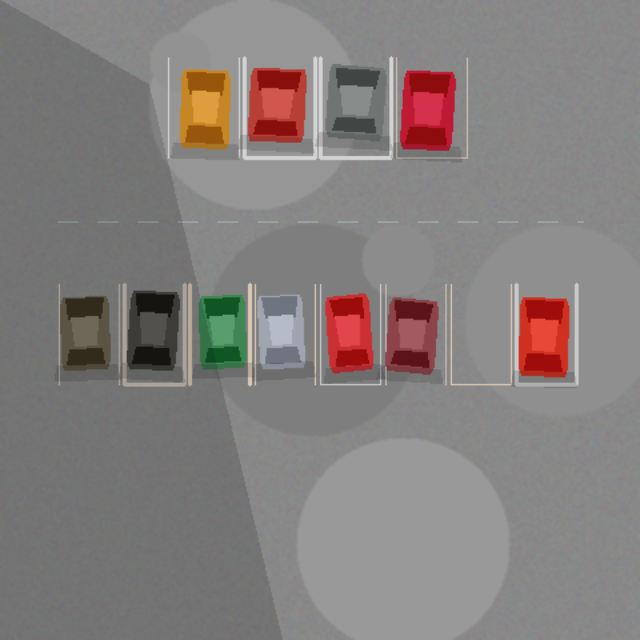space-empty: (451, 284, 511, 384)
space-occupied: (168, 57, 239, 157), (244, 57, 315, 157), (320, 57, 391, 157), (396, 57, 467, 157), (59, 284, 119, 384), (124, 284, 184, 384), (189, 284, 249, 384), (255, 284, 315, 384), (320, 284, 380, 384), (385, 284, 445, 384), (516, 284, 576, 384)
